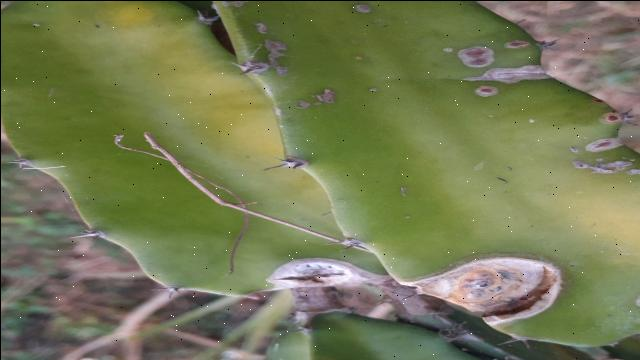stemcanker: (391, 246, 572, 325), (262, 253, 368, 289), (460, 64, 553, 84), (452, 46, 497, 69), (313, 86, 340, 107), (470, 84, 501, 99)
